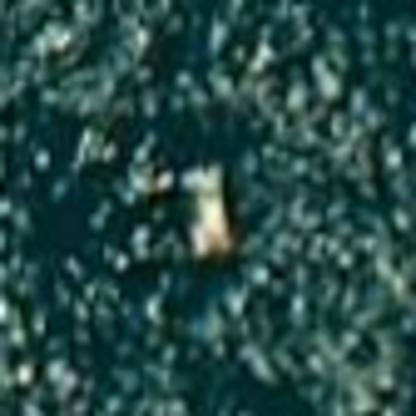ship: (171, 151, 240, 265)
